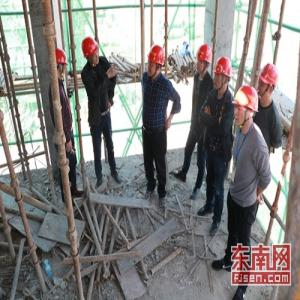red: (231, 83, 259, 129), (258, 64, 279, 102), (214, 56, 234, 92), (146, 45, 167, 79), (195, 44, 214, 76), (82, 35, 101, 67), (54, 47, 68, 78)
